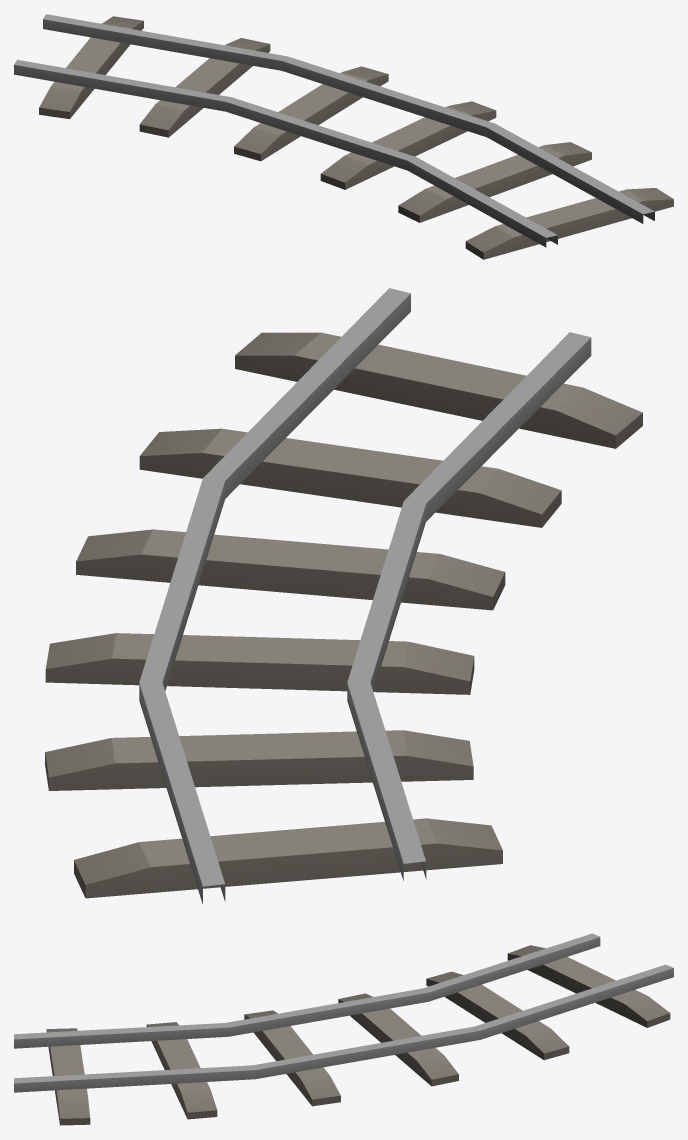
File: Railway_Line_45_L.fbx
3 views of the same model, one above another, from view 1: azimuth 30°, elevation 25°; view 2: azimuth 150°, elevation 25°; view 3: azimuth 270°, elevation 25° (orthographic). The views are drawn at different scales.
Parts seen in each view (by area): view 1: Railway_Line_45_L; view 2: Railway_Line_45_L; view 3: Railway_Line_45_L.
Boxes of the visible parts, x1,y1,x2,y2 form: Railway_Line_45_L: (14,14,673,259); Railway_Line_45_L: (45,288,642,904); Railway_Line_45_L: (14,933,673,1125).
Bounding box in the file's own units: 874 × 51.82 × 1403.
